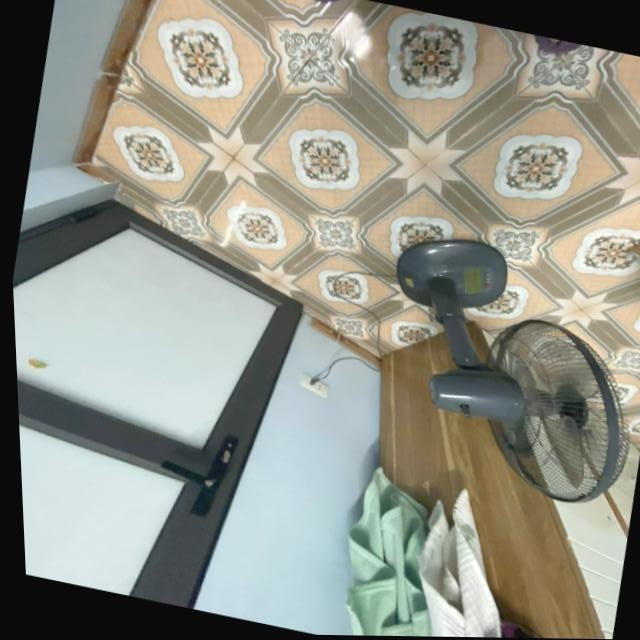outlet: (298, 372, 332, 397)
